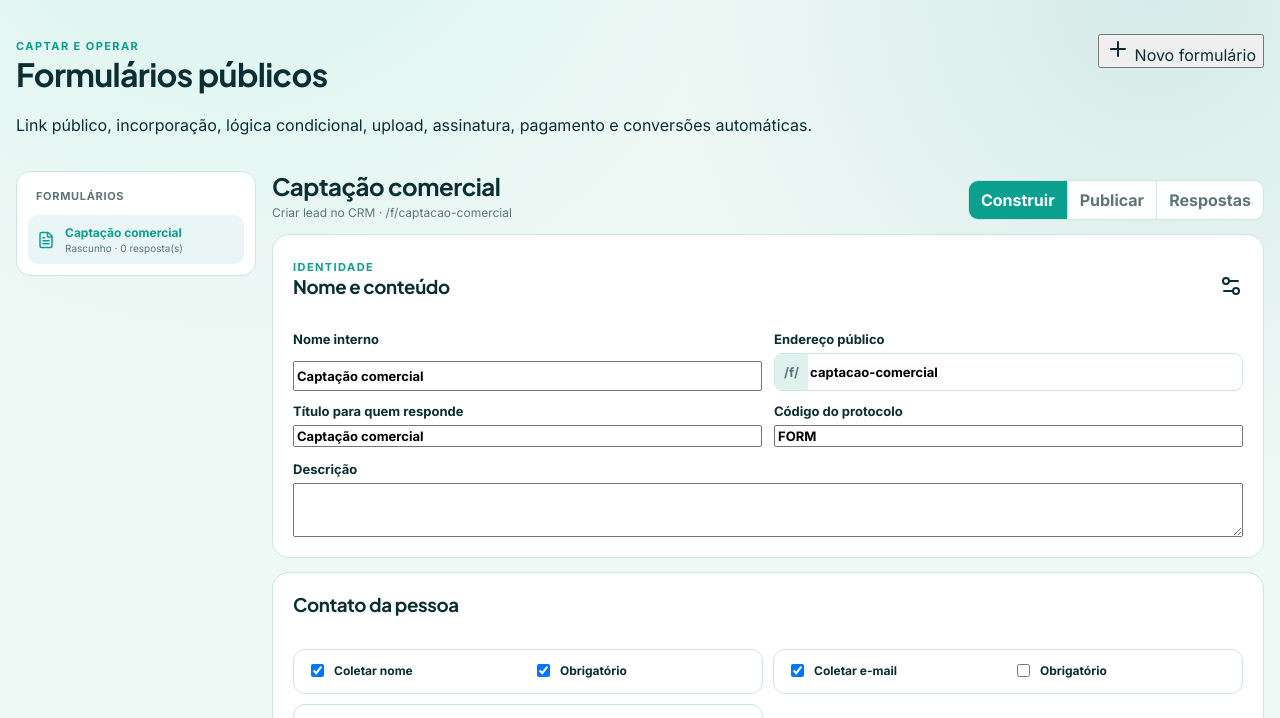
Test case: interface de formulários públicos › mostra respostas, protocolo, conversão, assinatura e anexos
Click the button "Respostas" at [1210, 200], box [1157,181,1263,219]
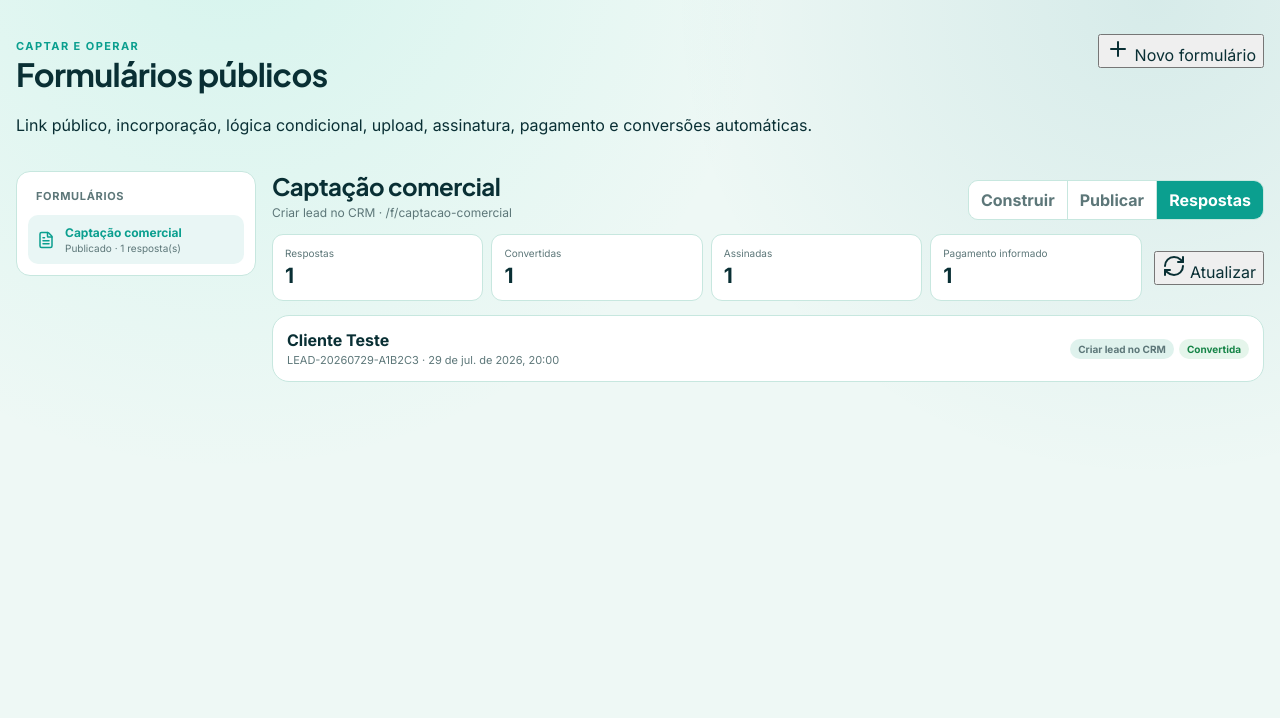
Check: the text "Cliente Teste" is shown
Click the text "Cliente Teste" at [338, 340], box [287,330,389,350]
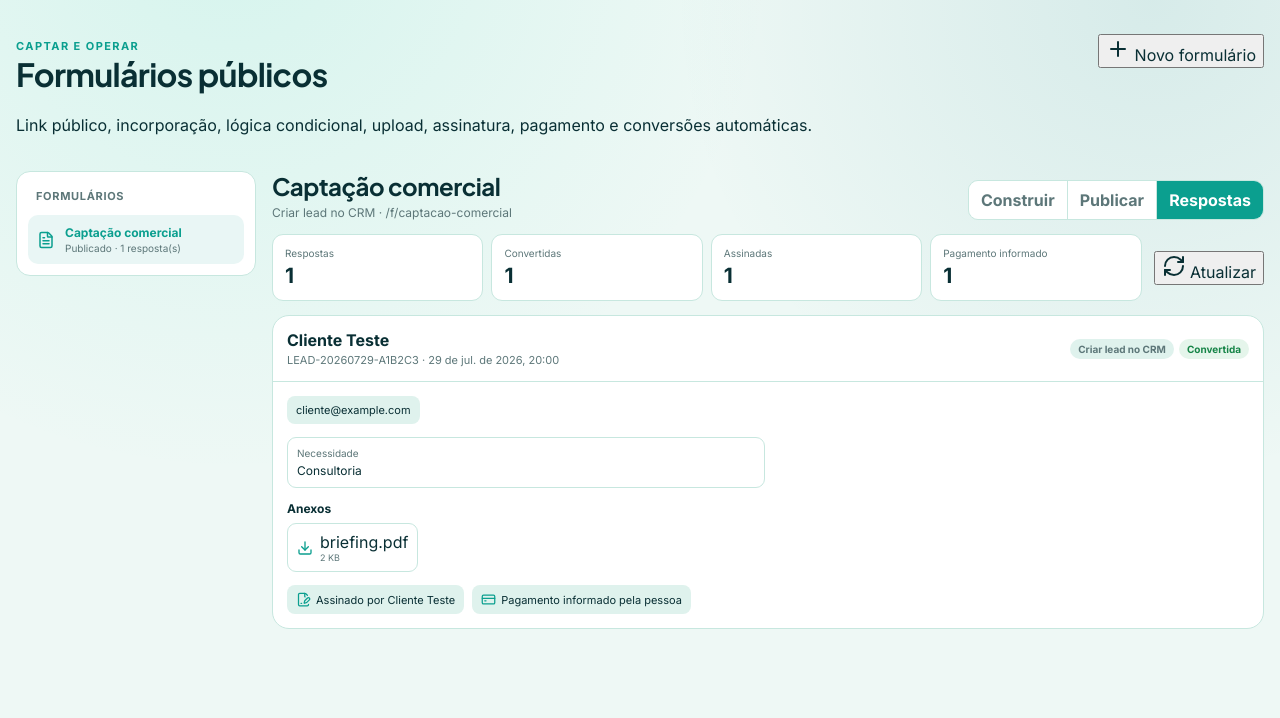
Check: the text "LEAD-20260729-A1B2C3 · 29 de jul. de 2026, 20:00" is shown, box [287,353,559,367]
Check: the text "Pagamento informado" is shown, box [943,247,1048,259]
Check: the text "Assinado por Cliente Teste" is shown, box [287,585,464,614]
